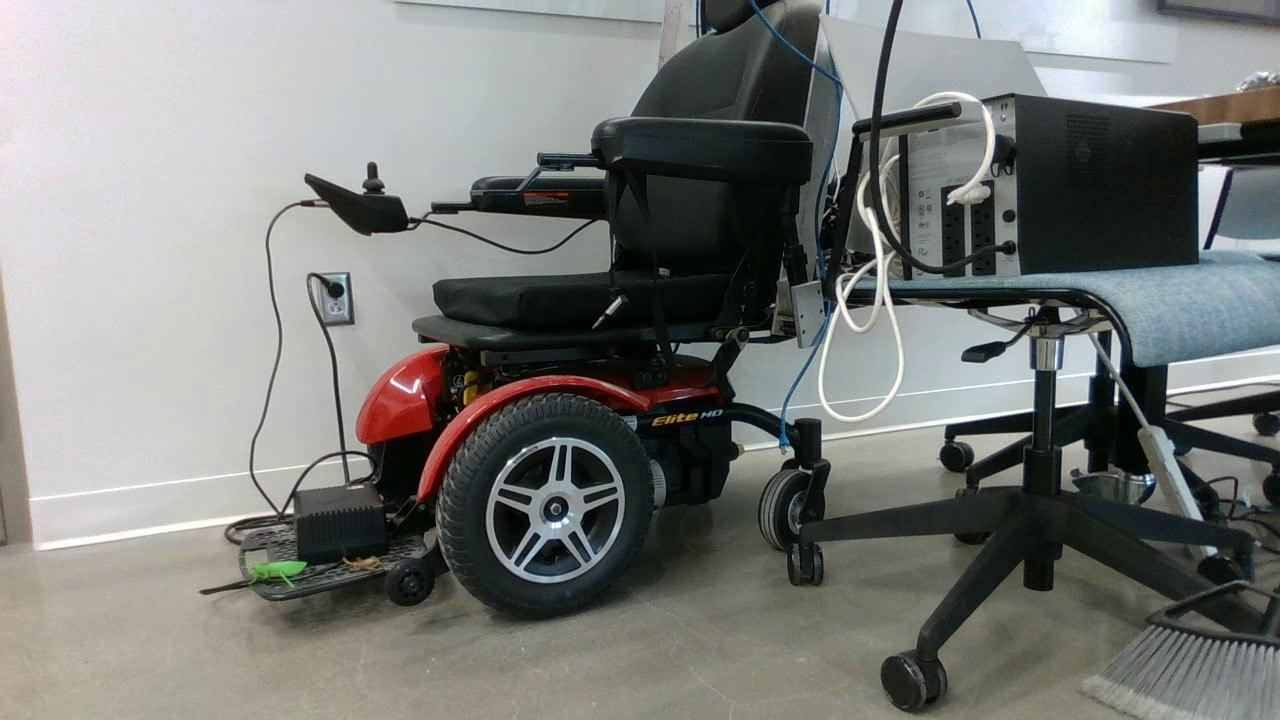grasshopper: (243, 557, 312, 588)
